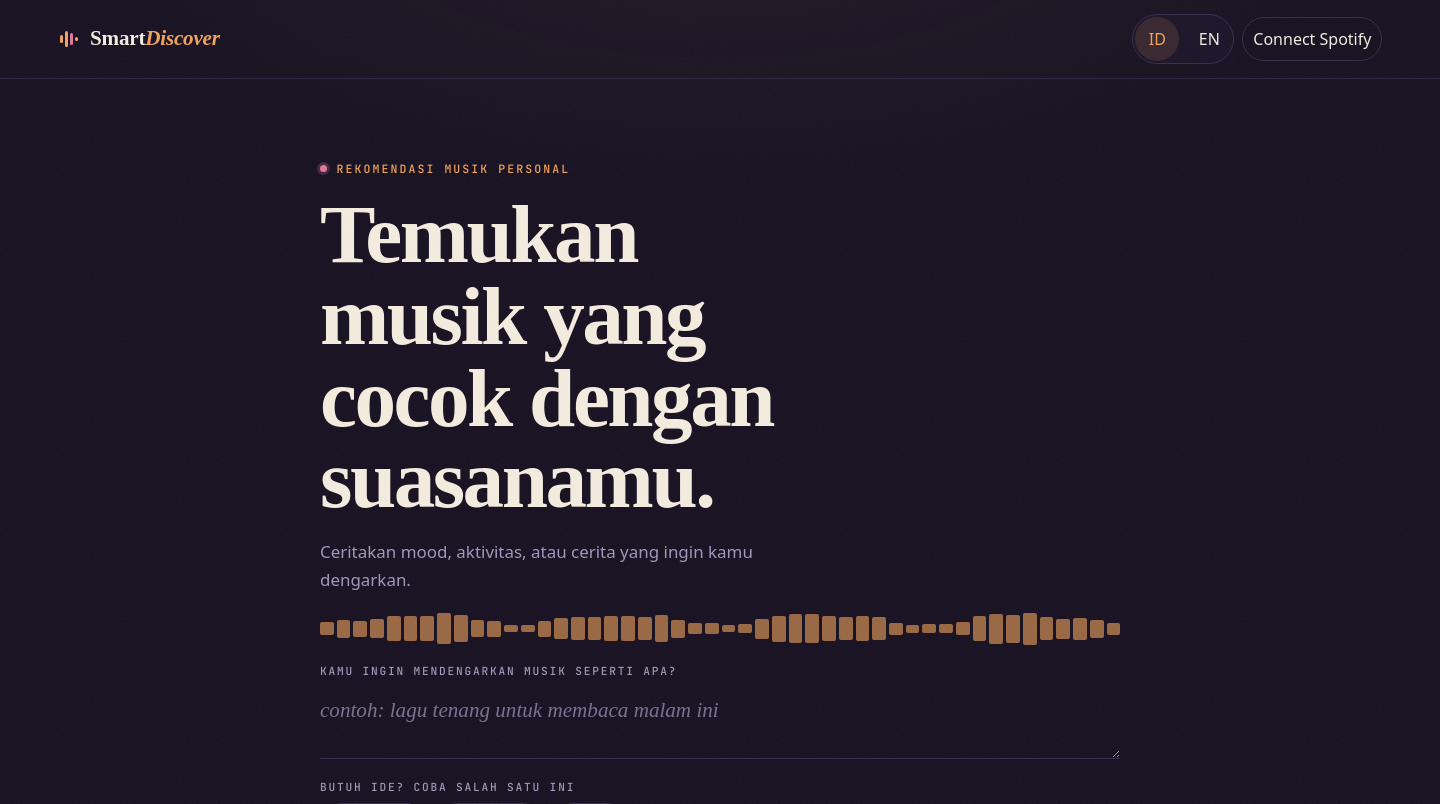
App › moves from idle to loading and renders the compact prompt
Type "lagu untuk malam" into the text box labelled "Kamu ingin mendengarkan musik seperti apa?" at (720, 722), box [320, 685, 1120, 758]
(page scrolled)
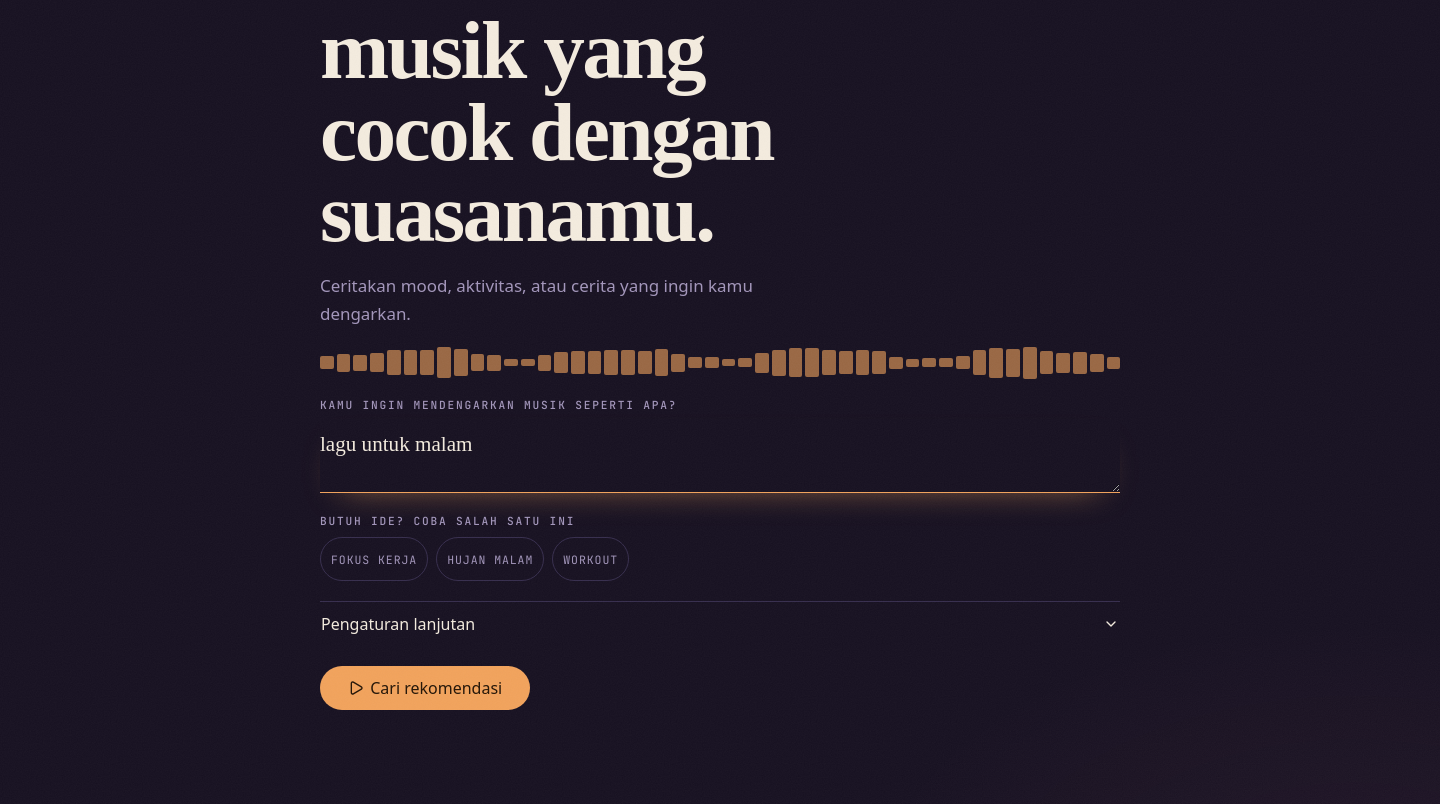
Click the button "Cari rekomendasi" at (425, 688), box [320, 666, 530, 710]
(page scrolled)
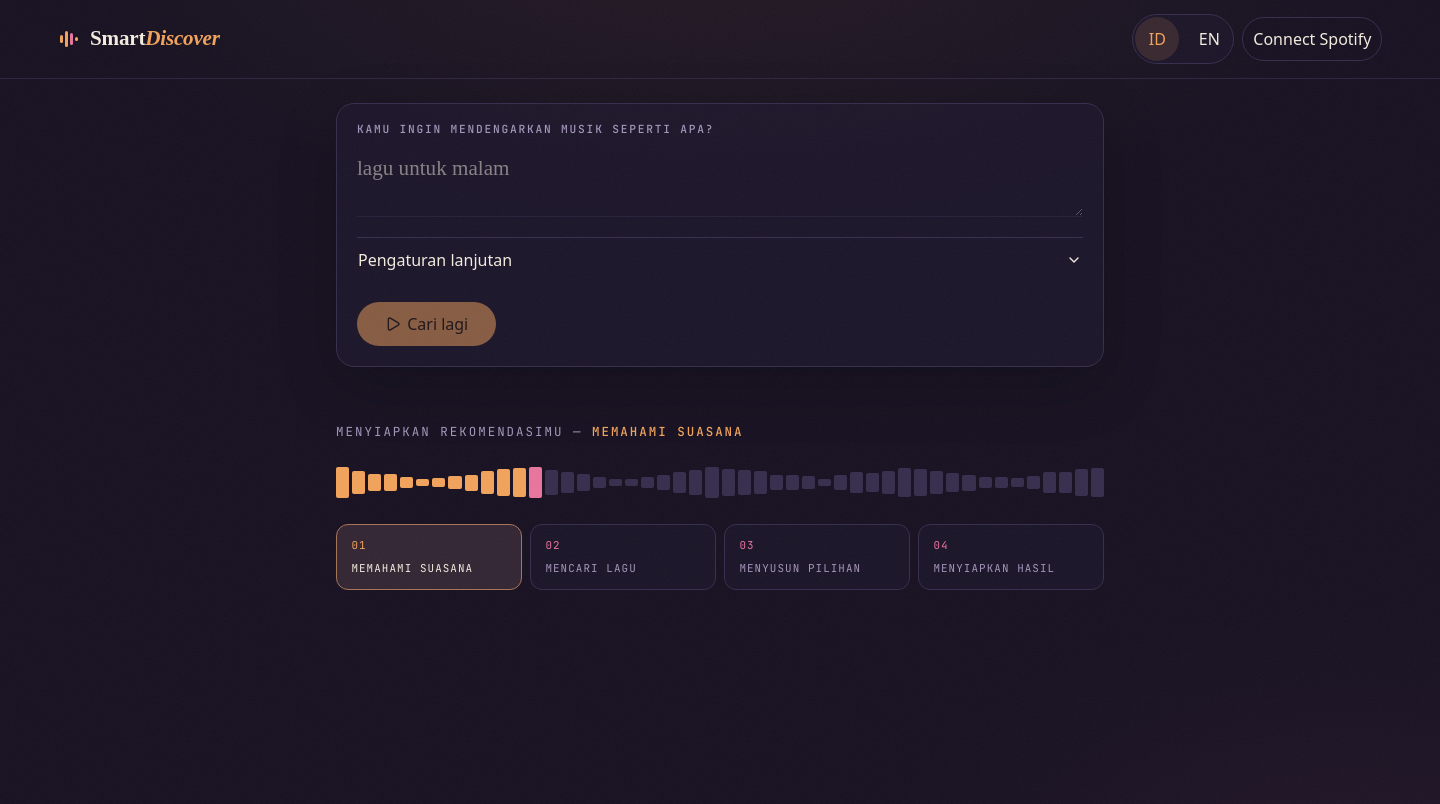
Expected: the message "Menyiapkan rekomendasimu — Memahami suasana" is shown, [336, 423, 744, 440]
